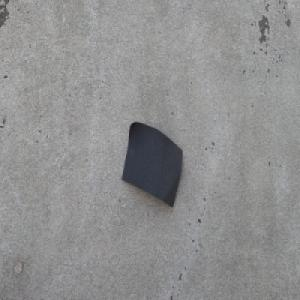PaintChip: (120, 119, 183, 208)
